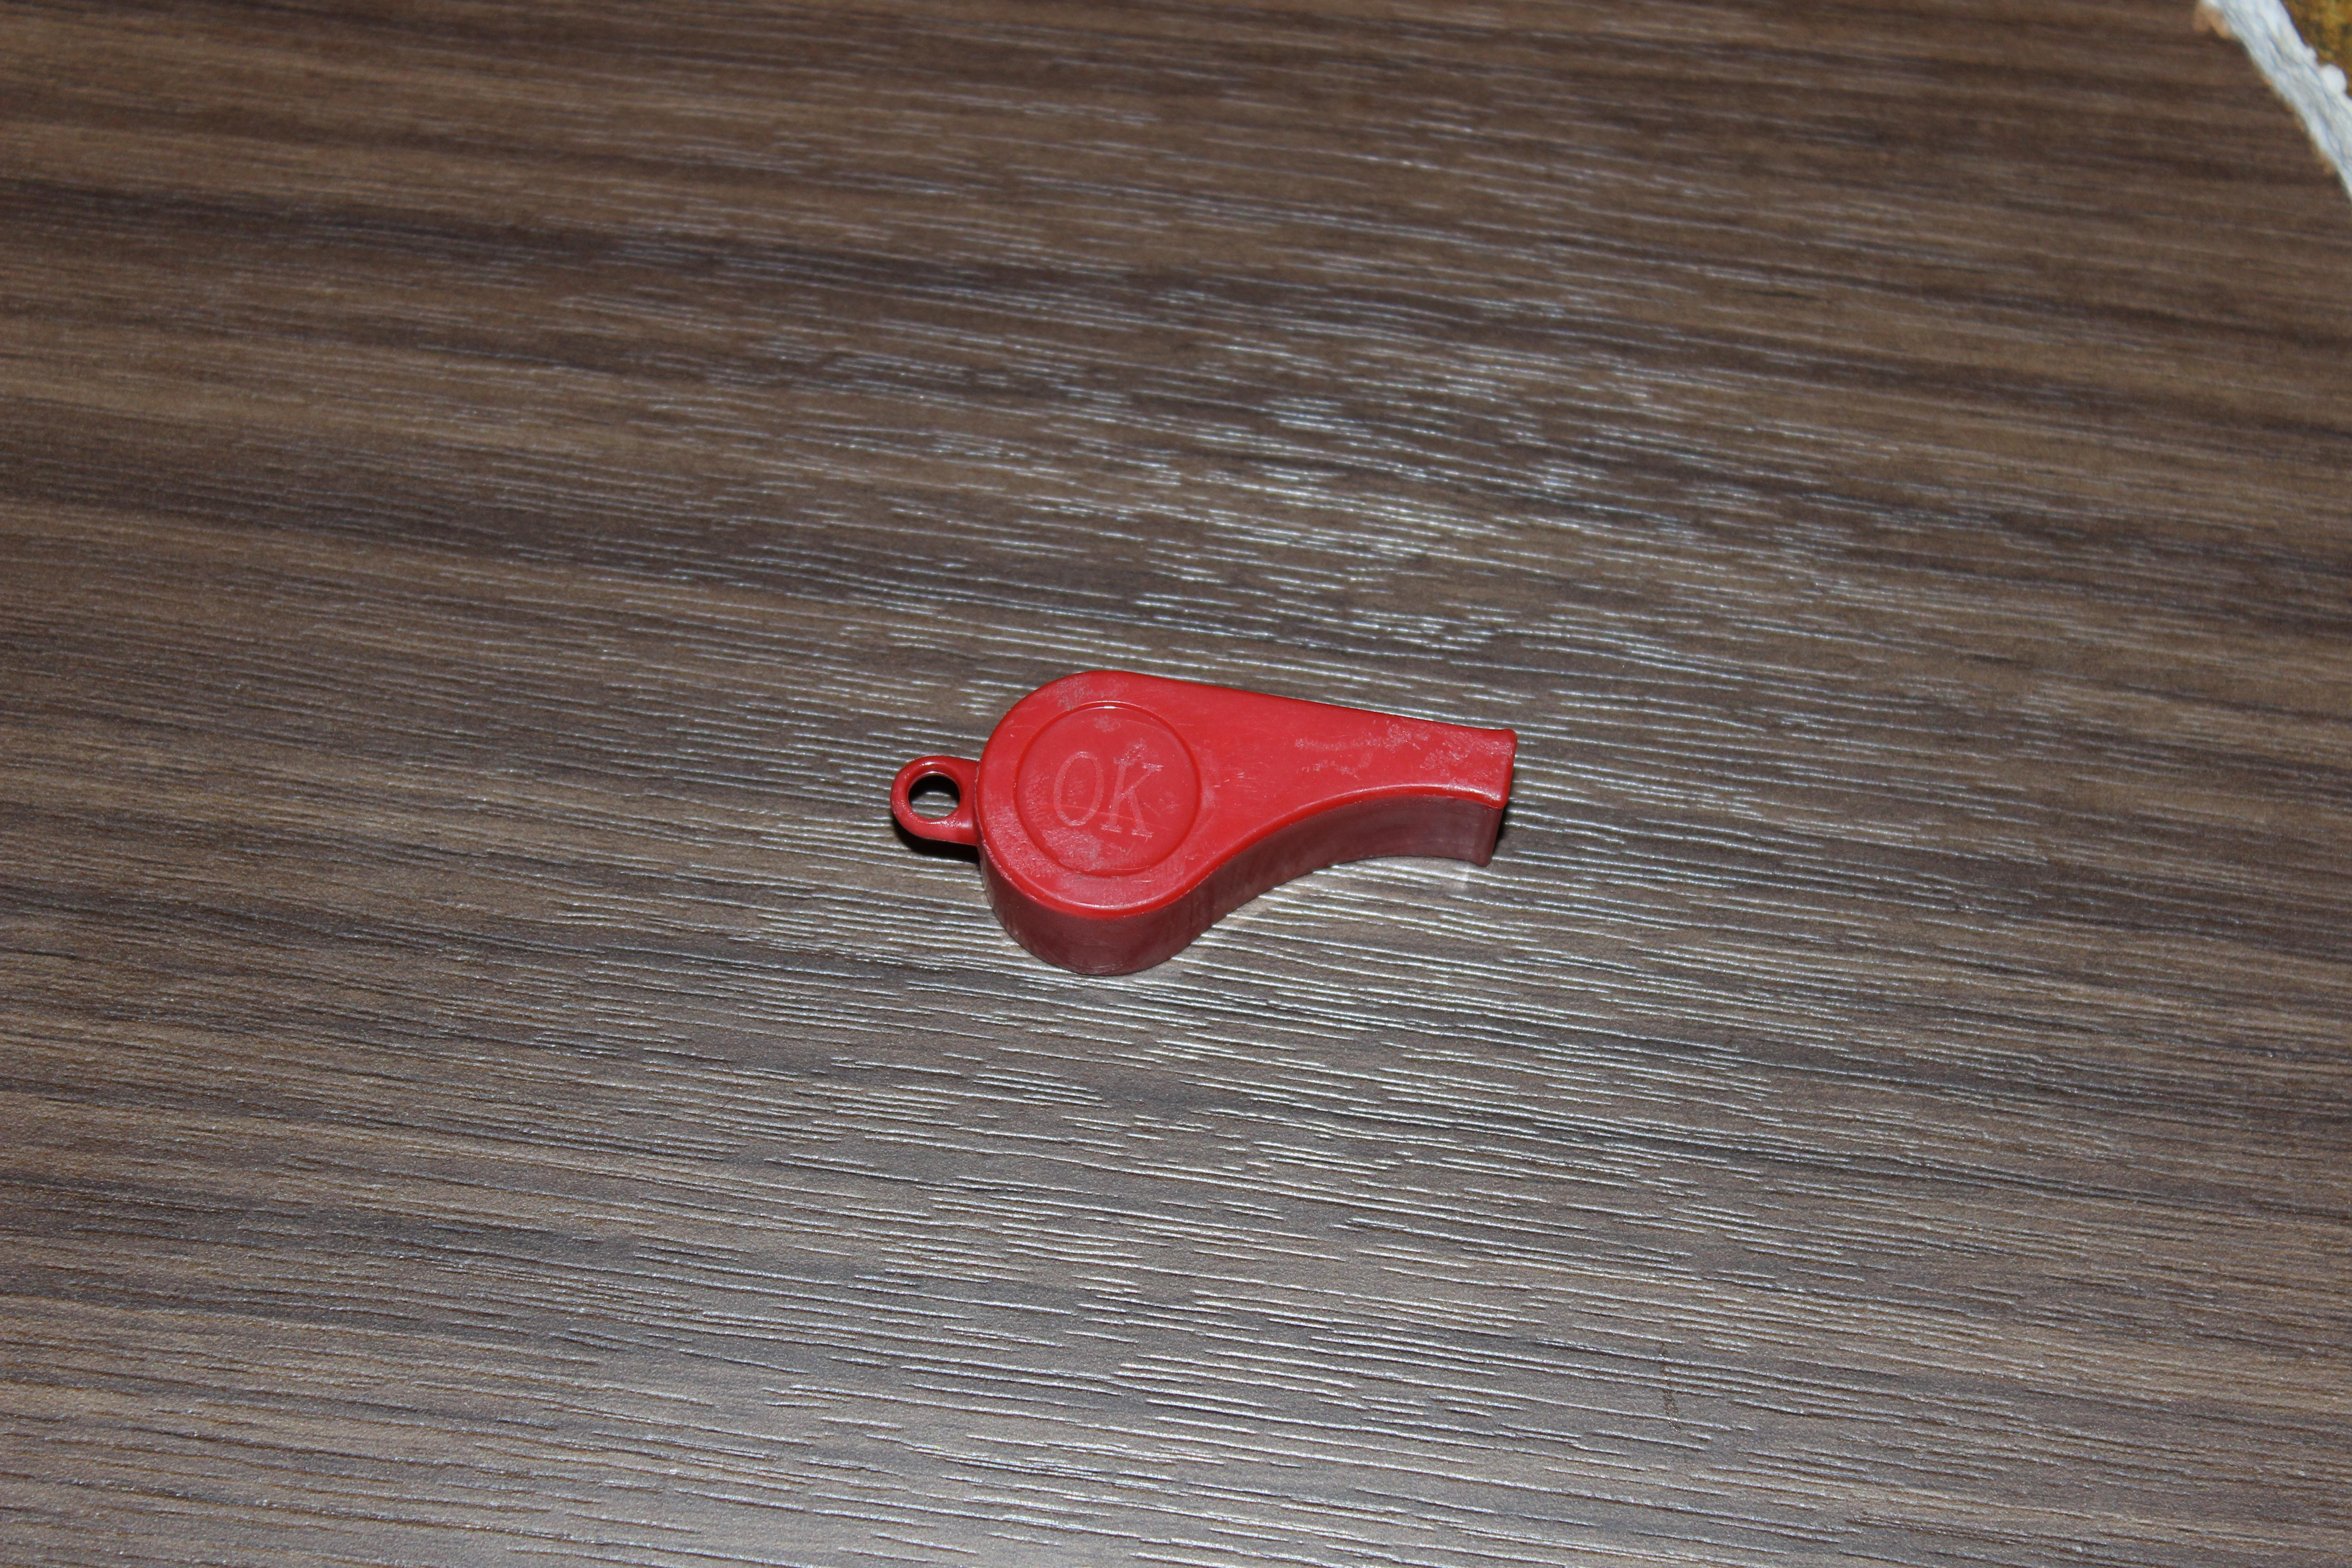redWhistle: (847, 632, 1554, 1013)
